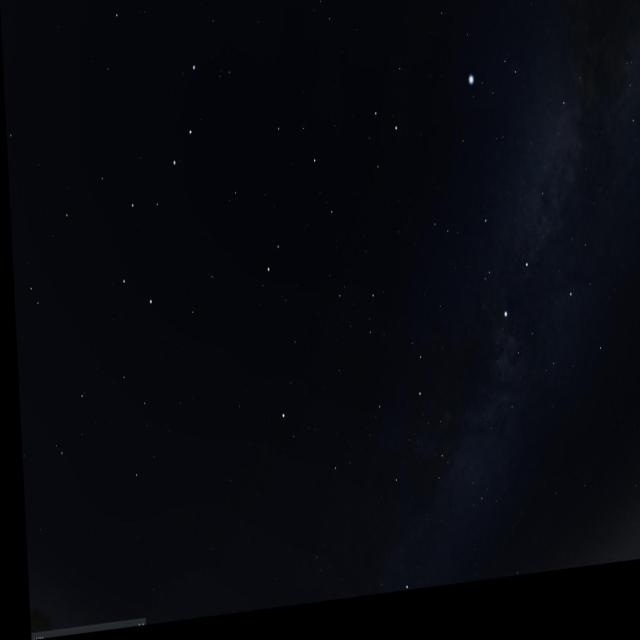cygnus: (459, 106, 579, 352)
lyra: (454, 49, 521, 129)
ursa_major: (96, 55, 216, 322)
